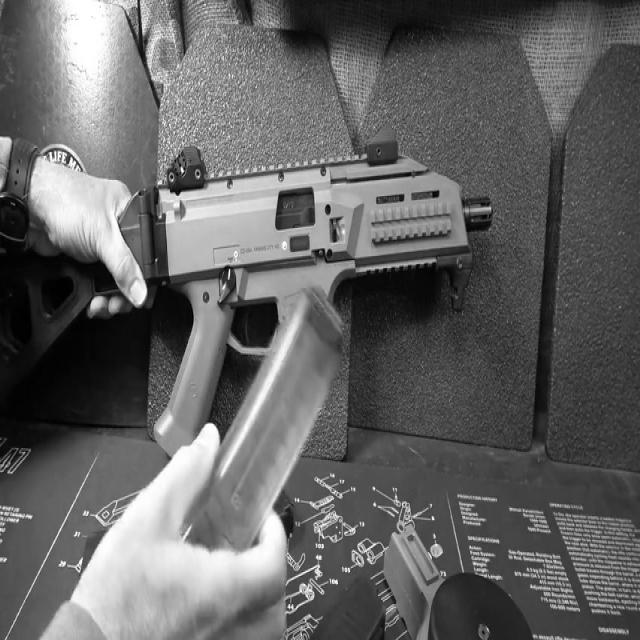Sub-machine-gun: (0, 76, 524, 599)
